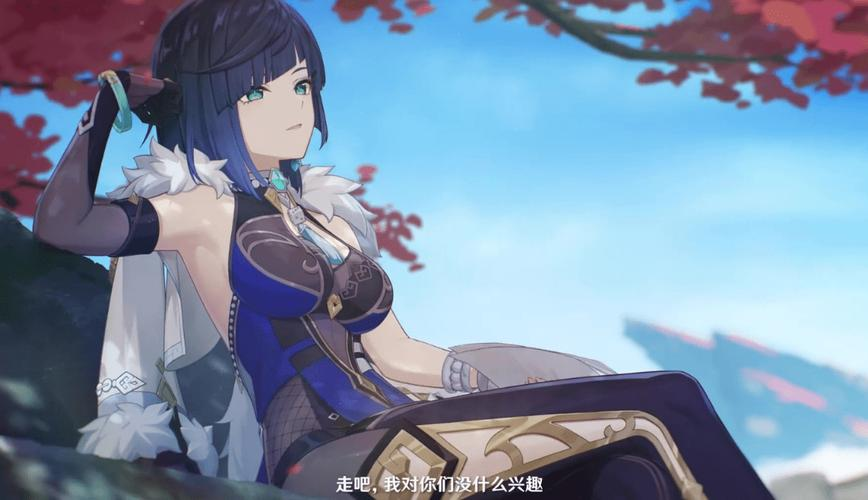夜兰: (31, 3, 780, 500)
